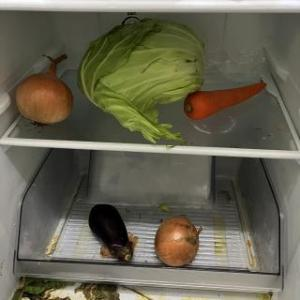cabbage: (76, 17, 208, 149)
carrot: (182, 82, 266, 122)
eggplant: (86, 202, 133, 264)
onion: (14, 54, 74, 132), (153, 215, 203, 268)
